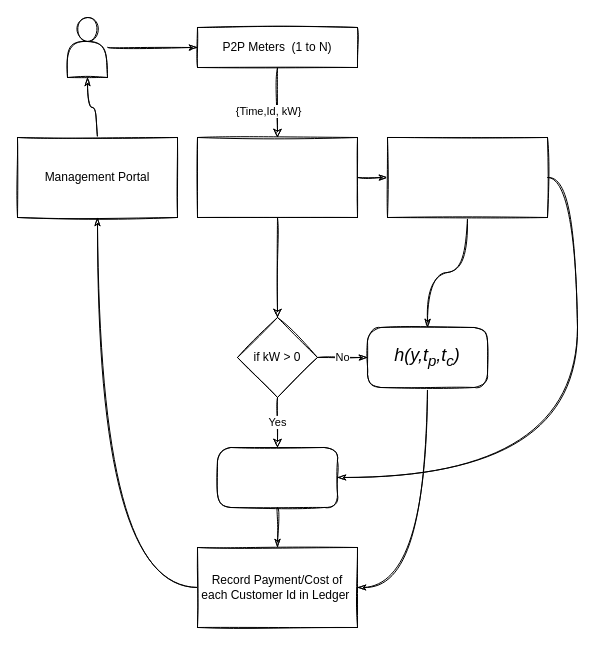
This 596x645 diagram has some shape labels left out. The box of each missing label's shape, as (x1, y1, x2, y2) in pixels:
For every timestamp Calculate t p ,t c: (386, 136, 548, 218)
g(x, t p ,t c ): (216, 446, 338, 508)
MQTT Broker: (196, 136, 358, 218)
